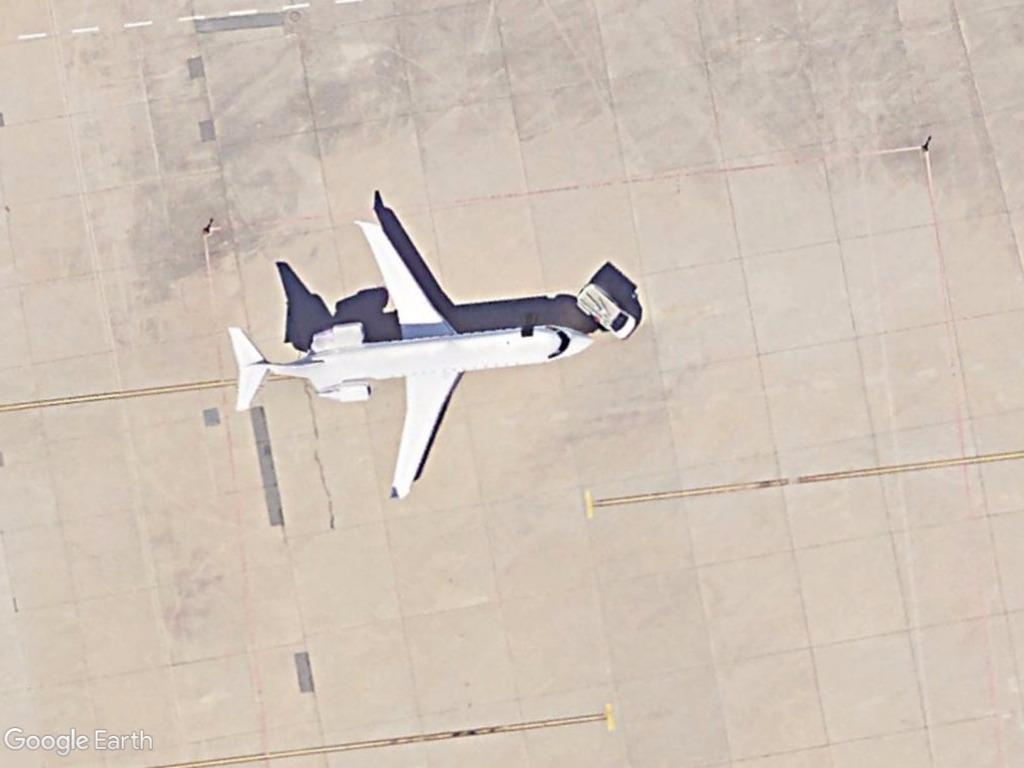chartered: (219, 215, 599, 506)
van: (575, 283, 639, 341)
